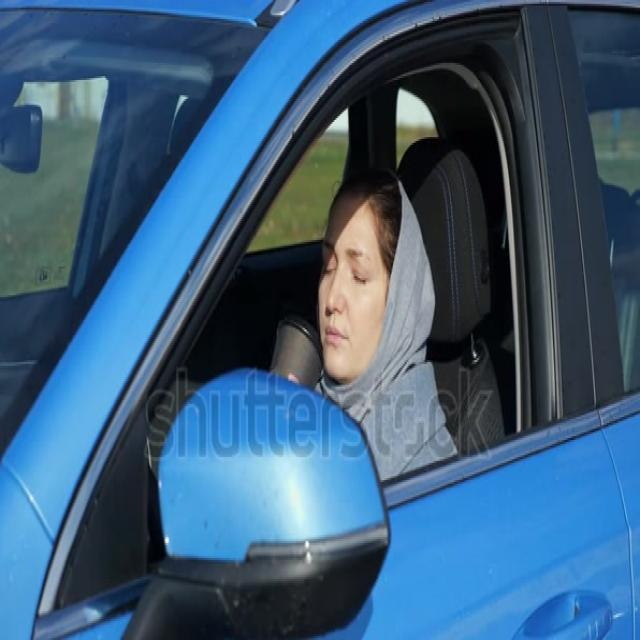garbage_dumping: (266, 300, 329, 406)
